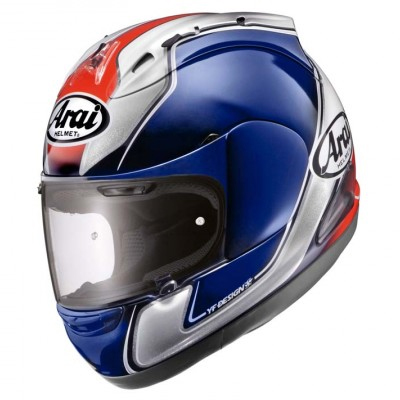helmet: (31, 15, 374, 382)
